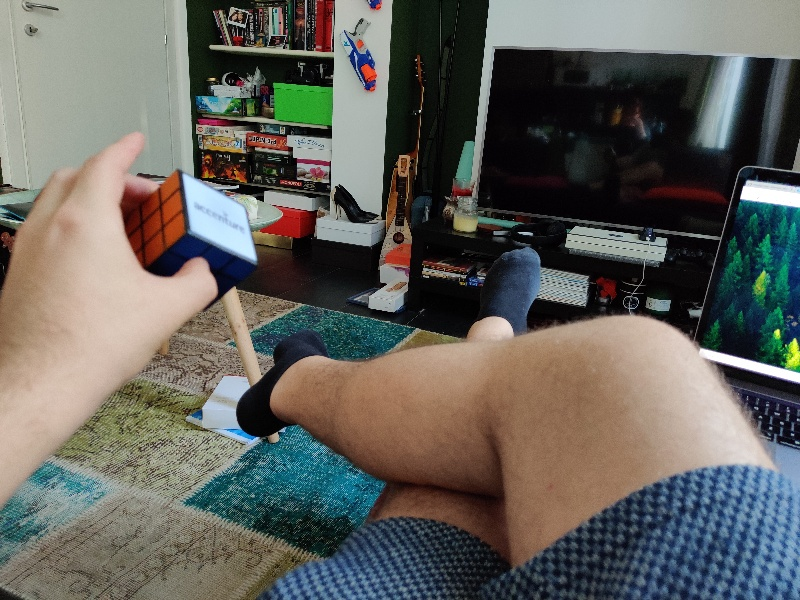rubik: (122, 168, 257, 310)
